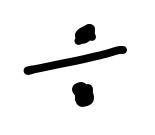div: (24, 25, 126, 109)
